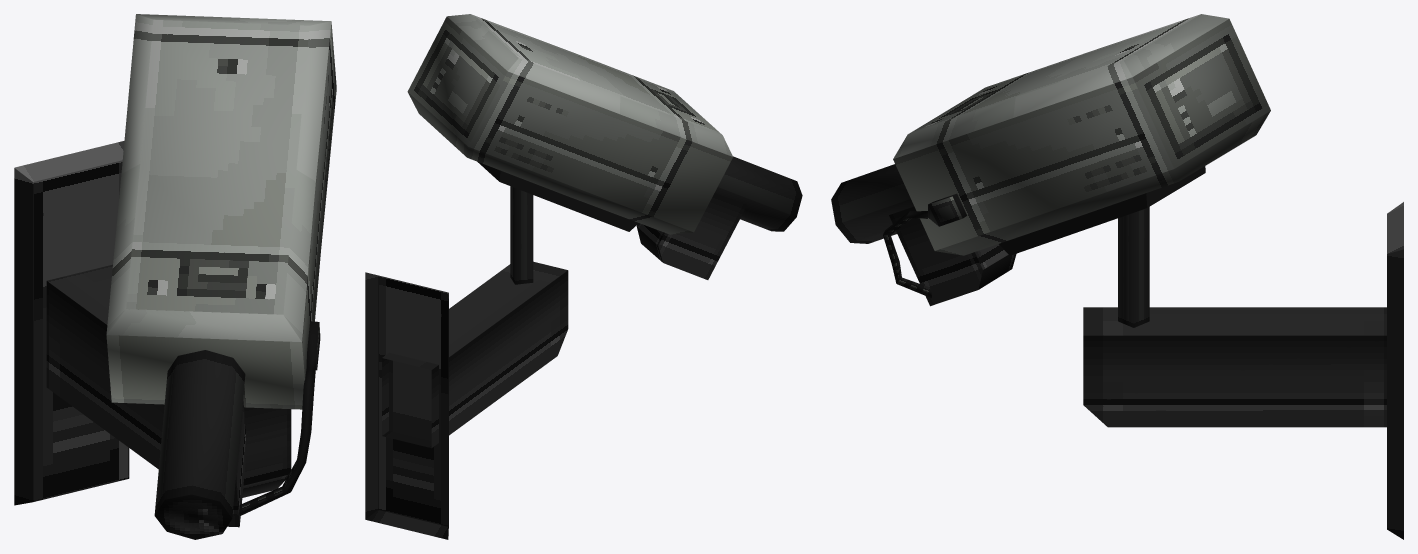
File: mgsCamera.fbx
3 views of the same model, side by side, from view 1: azimuth 30°, elevation 25°; view 2: azimuth 150°, elevation 25°; view 3: azimuth 270°, elevation 25° (orthographic). The views are drawn at different scales.
Visible parts, largest first — view 1: mesh1_mesh1_mesh0001.002, mesh4_mesh4_mesh0004.001; view 2: mesh1_mesh1_mesh0001.002, mesh4_mesh4_mesh0004.001; view 3: mesh1_mesh1_mesh0001.002, mesh4_mesh4_mesh0004.001.
Boxes of the visible parts, x1=… form: mesh1_mesh1_mesh0001.002: x1=106, y1=14, x2=336, y2=539; mesh4_mesh4_mesh0004.001: x1=14, y1=141, x2=291, y2=505; mesh1_mesh1_mesh0001.002: x1=407, y1=14, x2=802, y2=284; mesh4_mesh4_mesh0004.001: x1=365, y1=261, x2=568, y2=539; mesh1_mesh1_mesh0001.002: x1=831, y1=14, x2=1270, y2=327; mesh4_mesh4_mesh0004.001: x1=1083, y1=202, x2=1403, y2=539.
Bounding box in the file's own units: 3.15 × 5.09 × 4.78.
